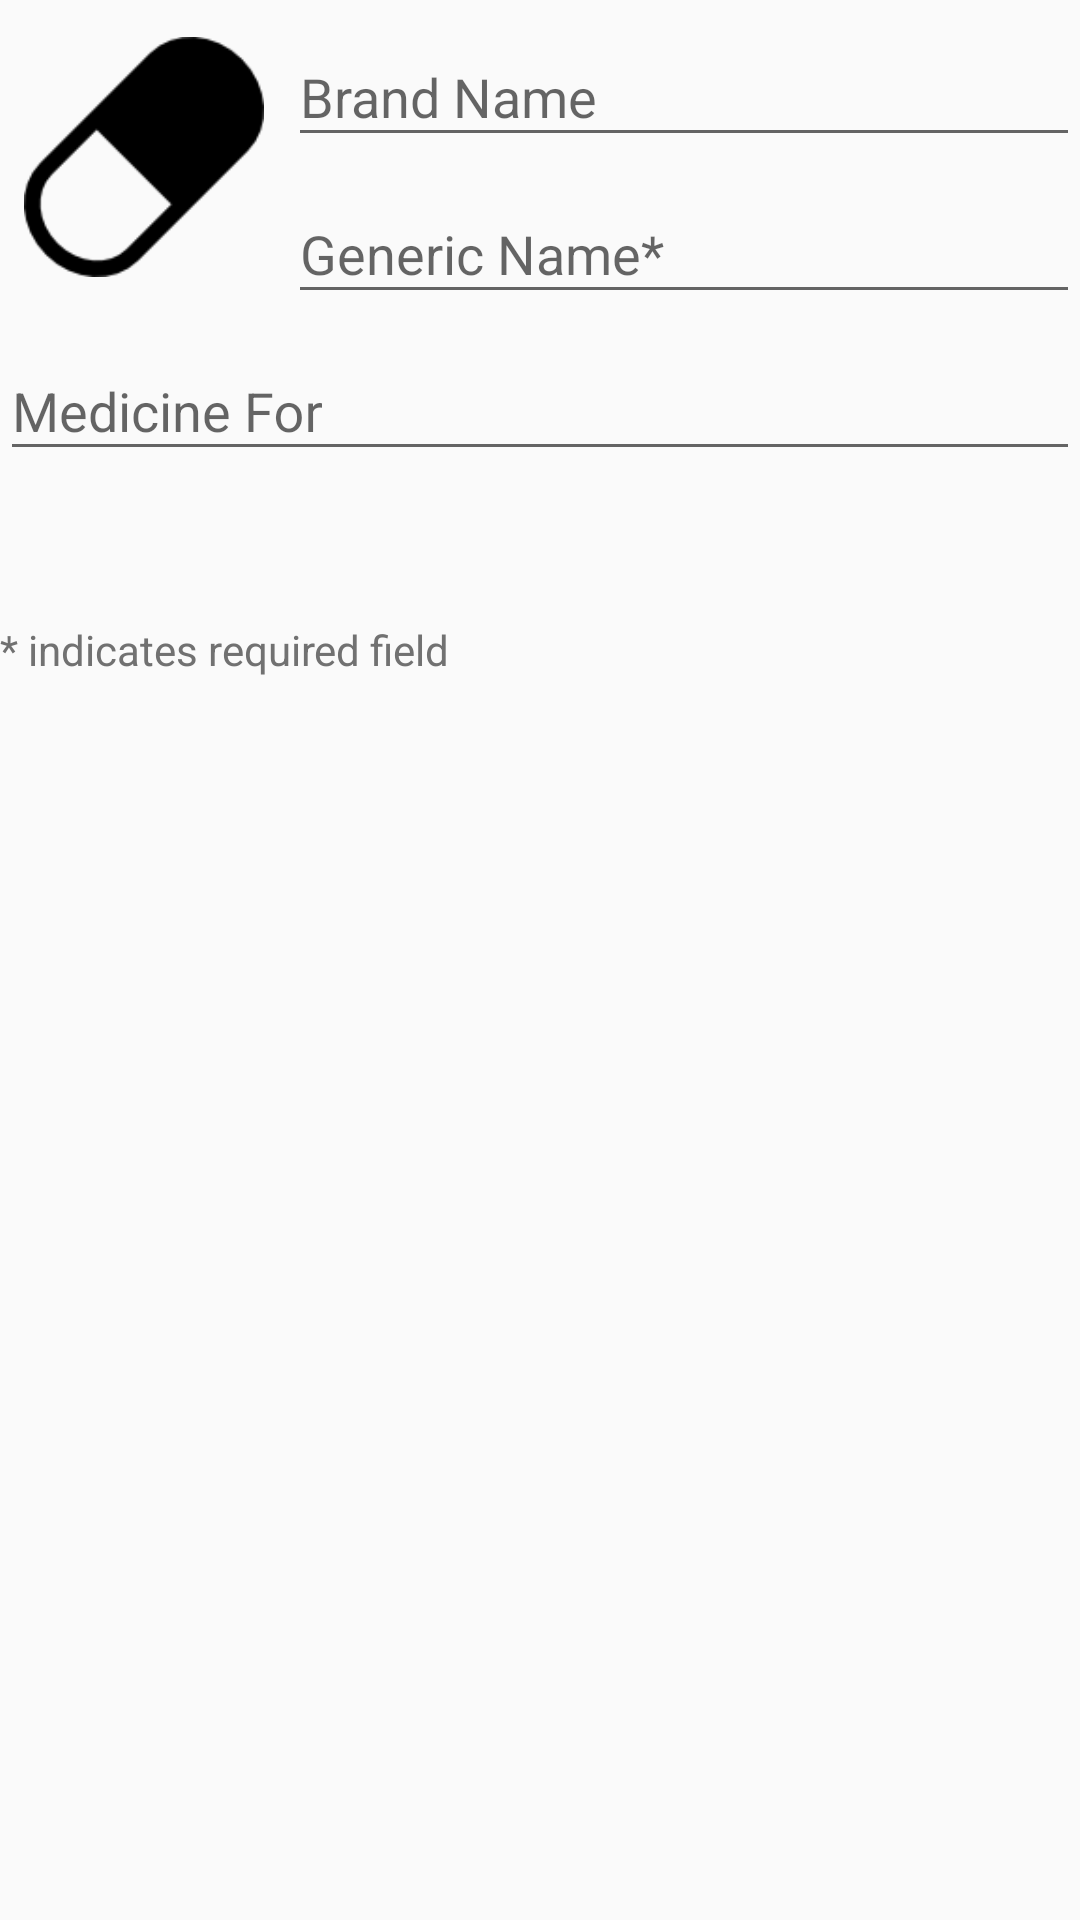

Named icons in this screenshot (1080 × 1920) and their bounding boxes, (x1, y1, x2, y2):
pill capsule: (24, 37, 264, 277)
